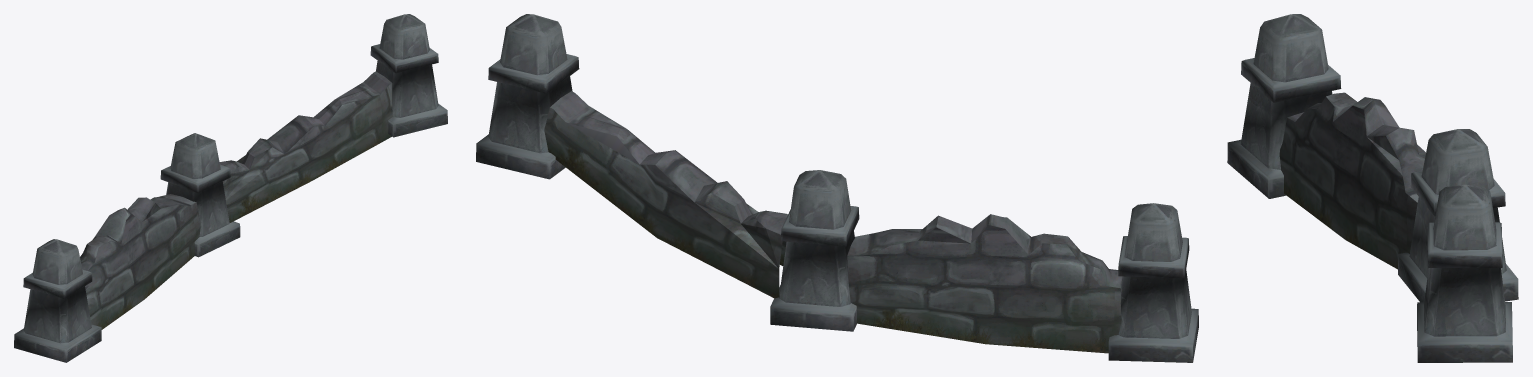
File: object_stonewalls01.fbx
3 views of the same model, side by side, from view 1: azimuth 30°, elevation 25°; view 2: azimuth 150°, elevation 25°; view 3: azimuth 270°, elevation 25° (orthographic). The views are drawn at different scales.
Parts seen in each view (by area): view 1: object_stonewalls01-0; view 2: object_stonewalls01-0; view 3: object_stonewalls01-0.
Part boxes in pixels (x1,y1,x2,y2): object_stonewalls01-0: (14,14,447,362); object_stonewalls01-0: (476,14,1198,362); object_stonewalls01-0: (1227,14,1518,362).
Bounding box in the file's own units: 10.28 × 3.97 × 3.67.
